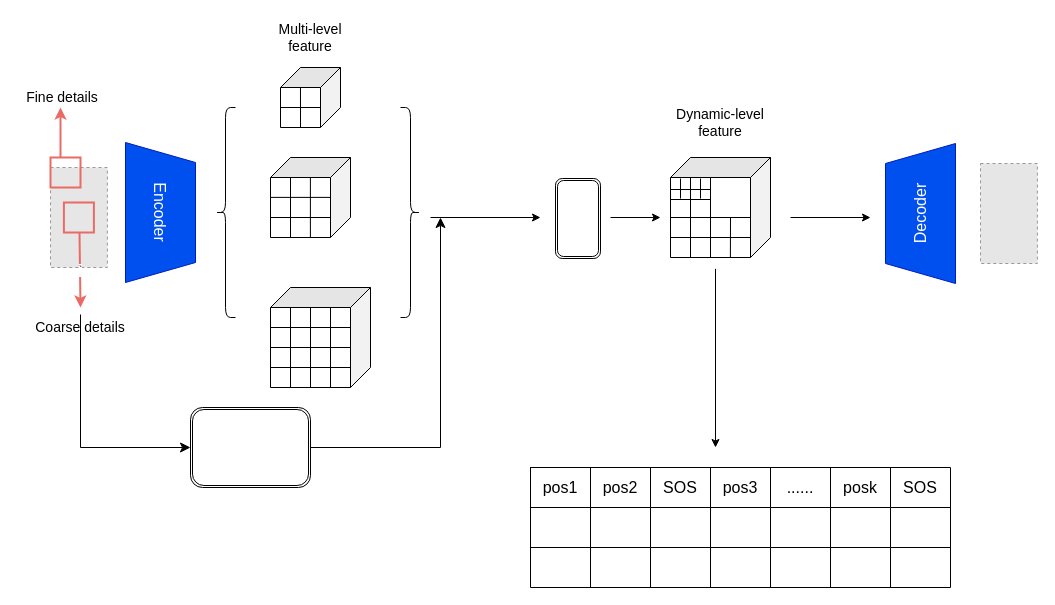
This 1055x605 diagram has some shape labels left out. Grey dashed boxes stand in for pictures. The centre of each missing label's shape, as x and y in pixels:
Density Detect Module: [250,447]
VQ: [577,218]
